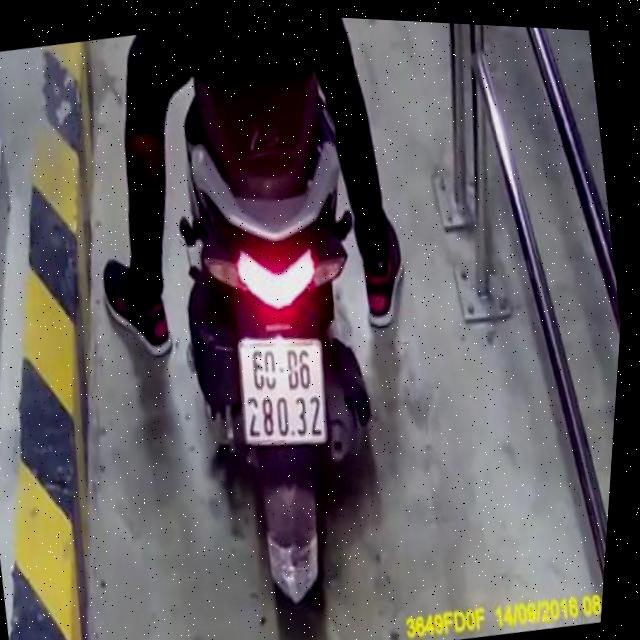motorcycle: (122, 61, 435, 640)
plate: (214, 313, 349, 465)
